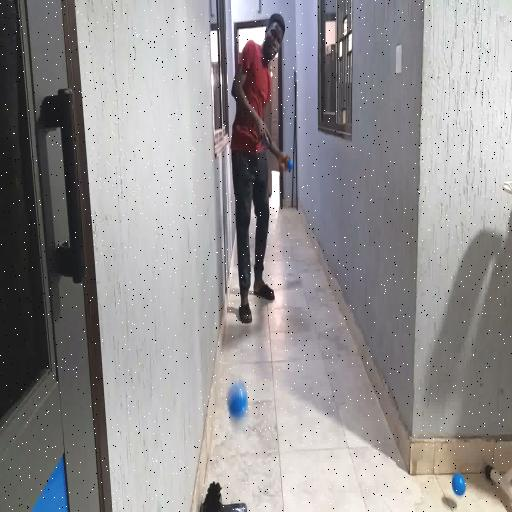plastic-ball: (227, 379, 248, 421)
